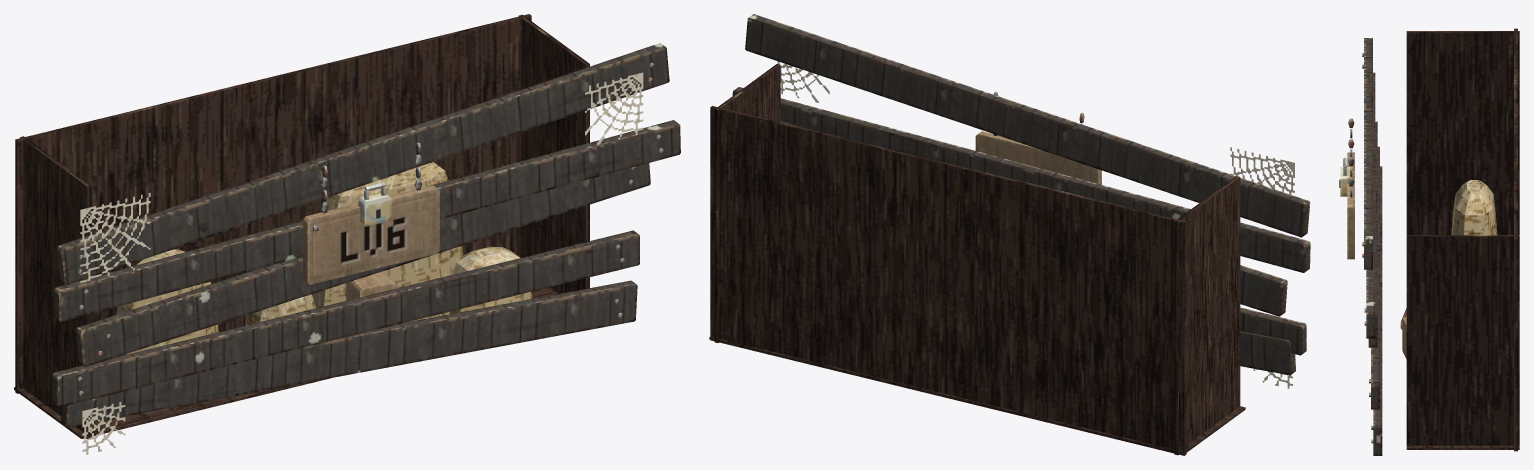
File: boards_f3.glb
The picture shows the model from 3 angles, left to right: view 1: azimuth 30°, elevation 25°; view 2: azimuth 150°, elevation 25°; view 3: azimuth 270°, elevation 25°; orthographic projection. The views are drawn at different scales.
Visible parts, largest first — view 1: tile_grey (×5), solid (×2), tile_wood (×2), card; view 2: solid, tile_grey (×5), tile_wood, card; view 3: solid (×2), tile_grey (×5), tile_wood.
Boxes of the visible parts, <box> form: tile_grey (×5): <box>52,43,680,427</box>; solid (×2): <box>14,14,589,439</box>; tile_wood (×2): <box>303,185,439,300</box>; card: <box>80,72,643,454</box>; solid: <box>709,64,1245,455</box>; tile_grey (×5): <box>732,14,1310,375</box>; tile_wood: <box>975,131,1101,184</box>; card: <box>777,61,1294,388</box>; solid (×2): <box>1339,28,1519,451</box>; tile_grey (×5): <box>1364,38,1382,455</box>; tile_wood: <box>1347,152,1354,259</box>.
Bounding box in the file's own units: 160 × 67.72 × 47.82.
Materials: 2 (2 with a texture image).
